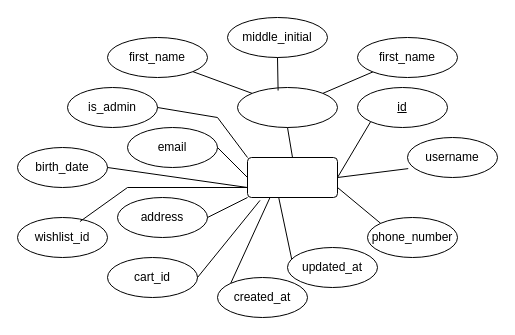
Some shapes in this 515 by 335 pixel diagram are drawn without their labels. Each missing label, with the centre of its shape:
"name" belongs at point (287, 107).
"USER" belongs at point (292, 177).
